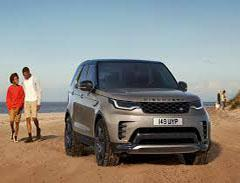car: (55, 44, 225, 175)
